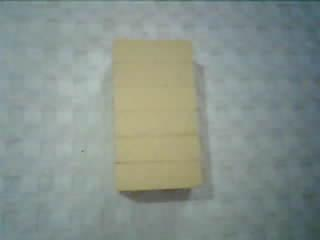lego: (109, 36, 203, 191)
